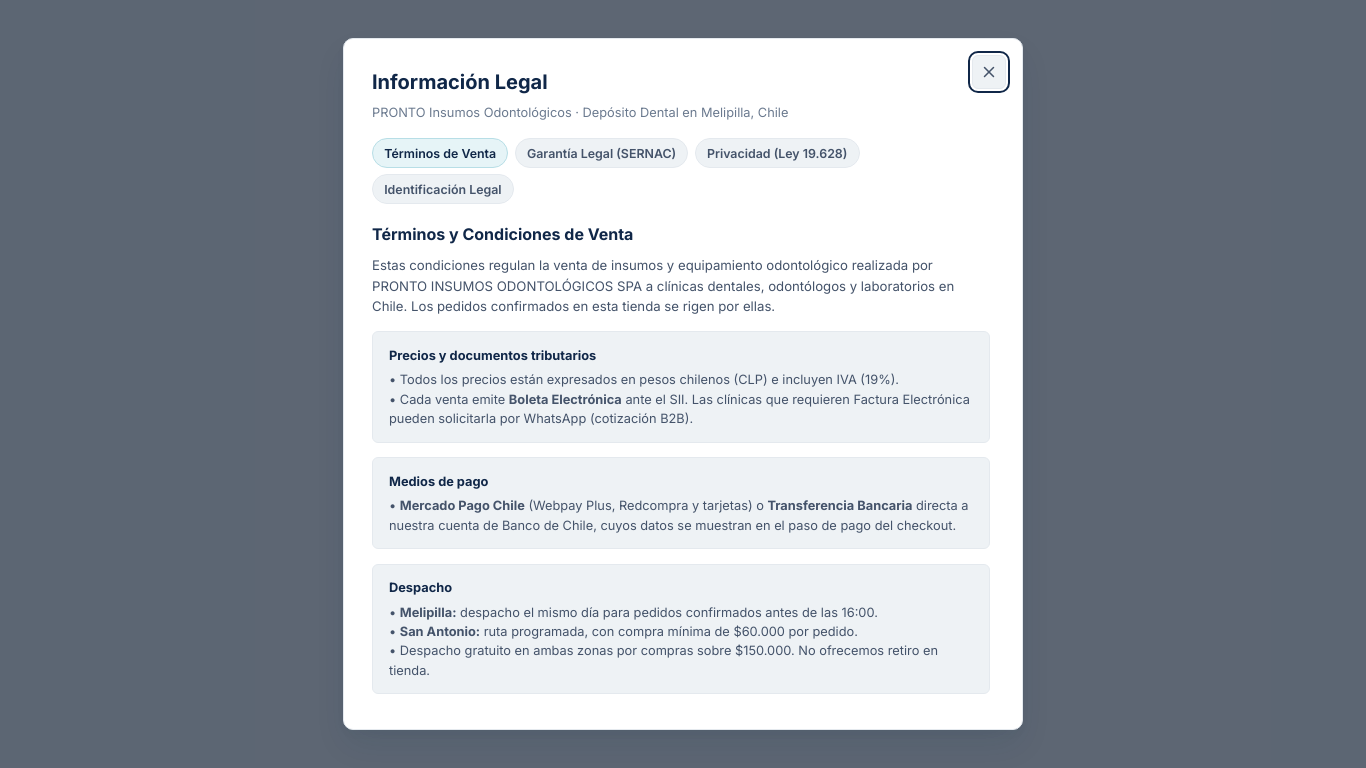
LegalModal (Task 7.1) › switches sections through the nav buttons
Click the button "Privacidad (Ley 19.628)" at [777, 153], box [695,138,860,168]
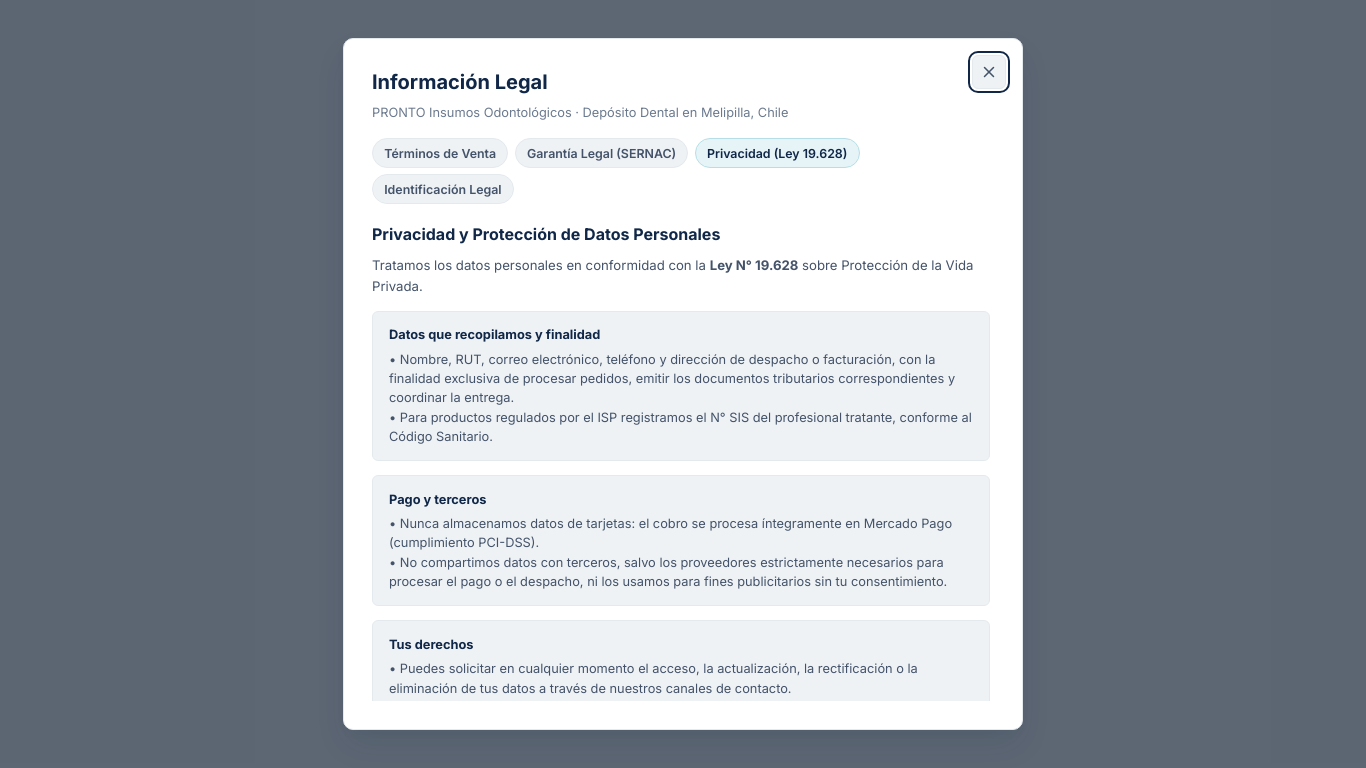
Expected: the text "Ley N° 19.628" is shown, [710,257,798,273]
Click the button "Garantía Legal (SERNAC)" at [602, 153], box [515,138,688,168]
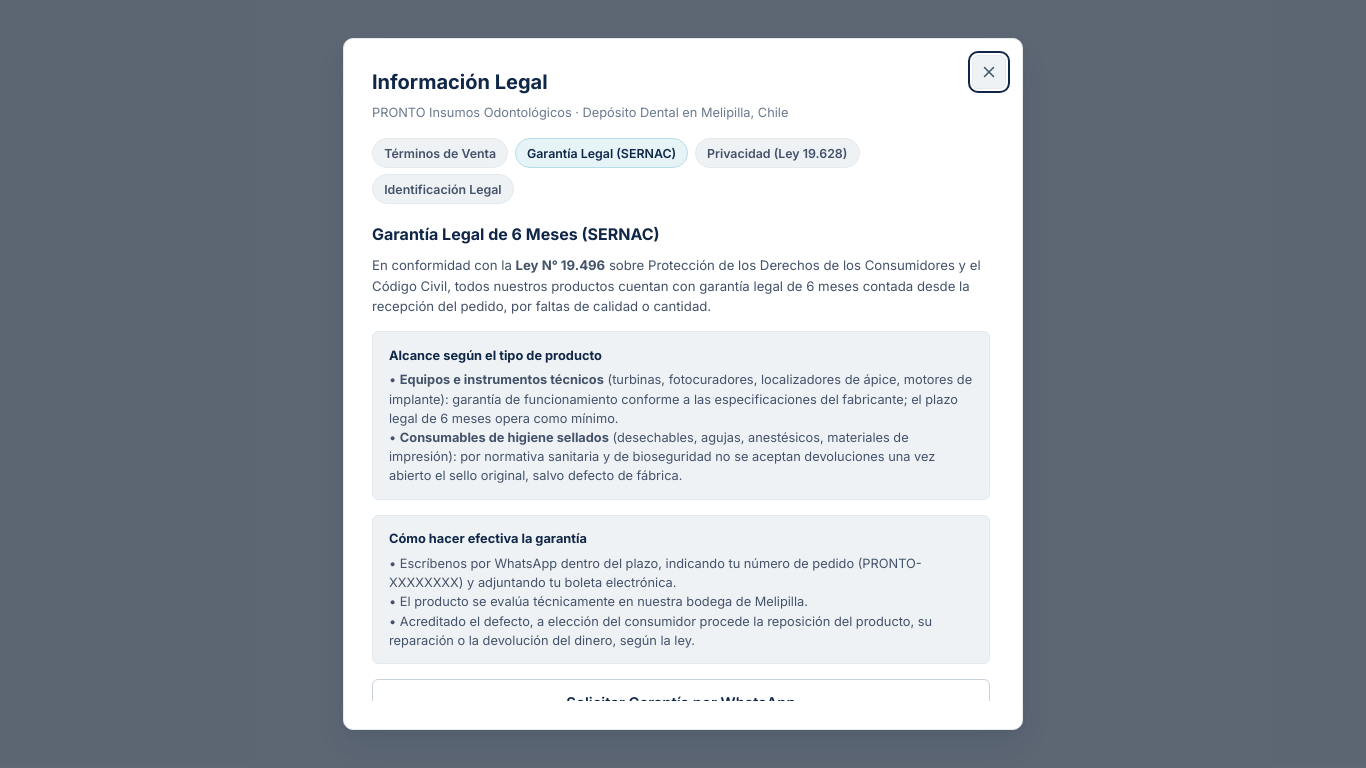
Expected: the text "Ley N° 19.496" is shown, [516,257,605,273]
